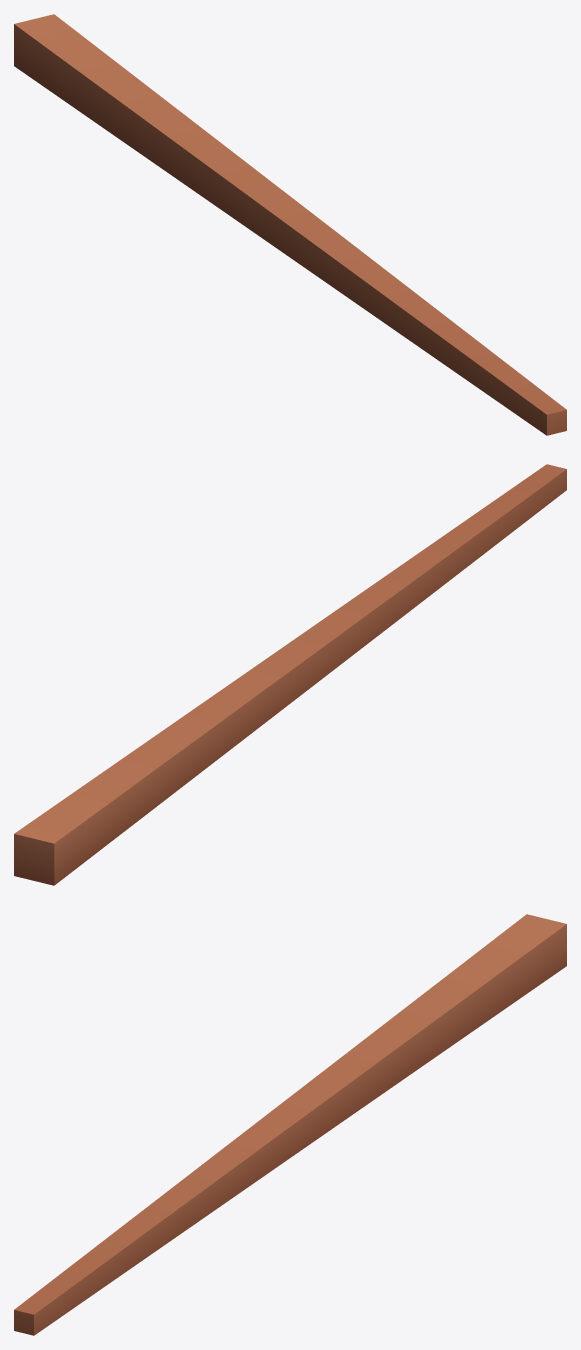
Rendered from chopstick.glb.
3 renders of one model, top to bottom at view 1: azimuth 30°, elevation 25°; view 2: azimuth 150°, elevation 25°; view 3: azimuth 330°, elevation 25°, orthographic.
Visible parts, largest first — view 1: chopstick; view 2: chopstick; view 3: chopstick.
Boxes of the visible parts, left/top/right/bottom form: chopstick: left=14, top=14, right=566, bottom=435; chopstick: left=14, top=464, right=566, bottom=885; chopstick: left=14, top=914, right=566, bottom=1335.
Bounding box in the file's own units: 0.02 × 0.02 × 0.45.
